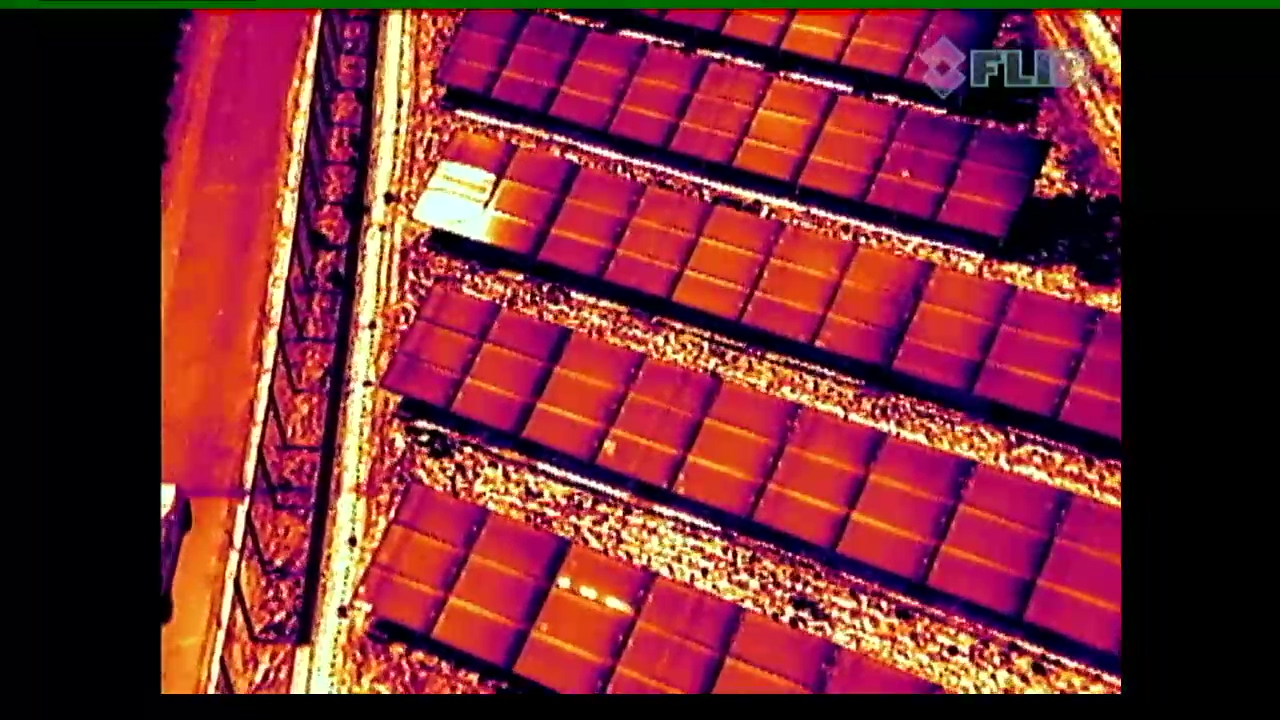hotspot: (494, 541, 646, 695), (577, 356, 715, 487)
